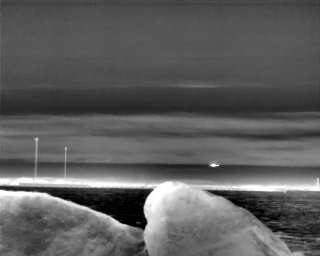HELICOPTER: (207, 159, 223, 172)
